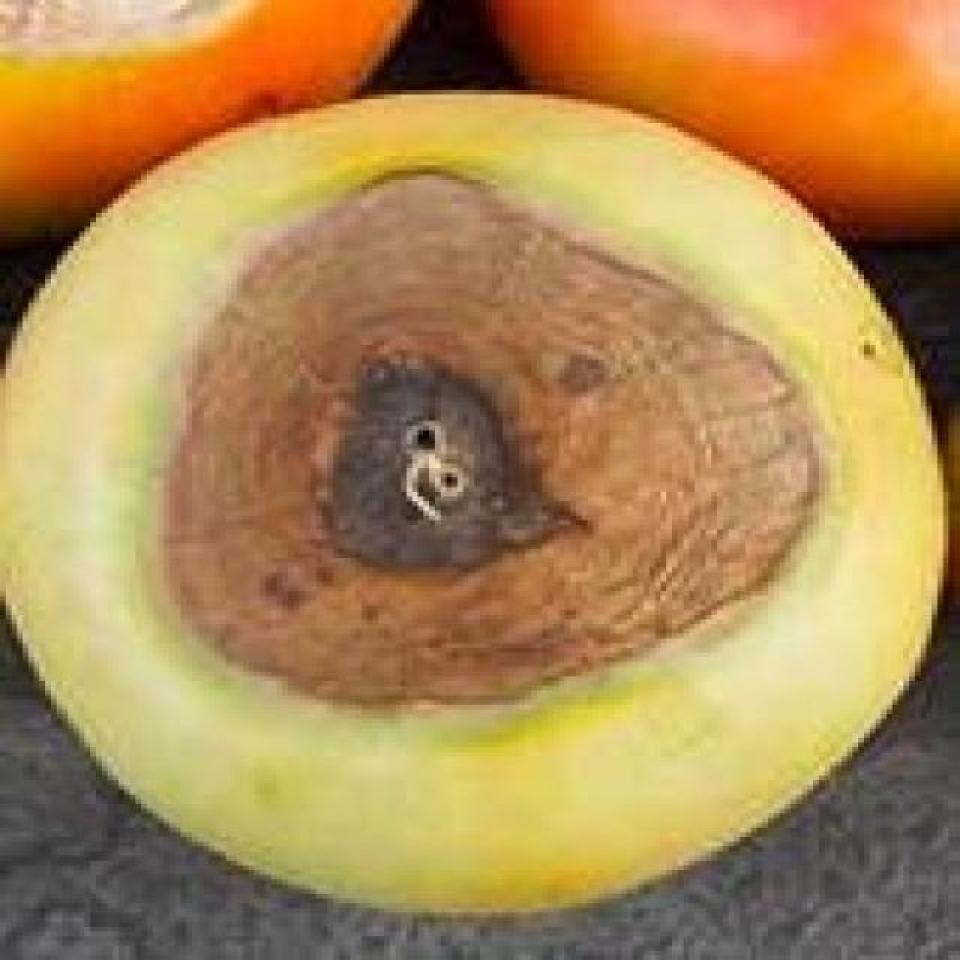Blossom_end_rot: (135, 160, 825, 714), (0, 0, 249, 66)
